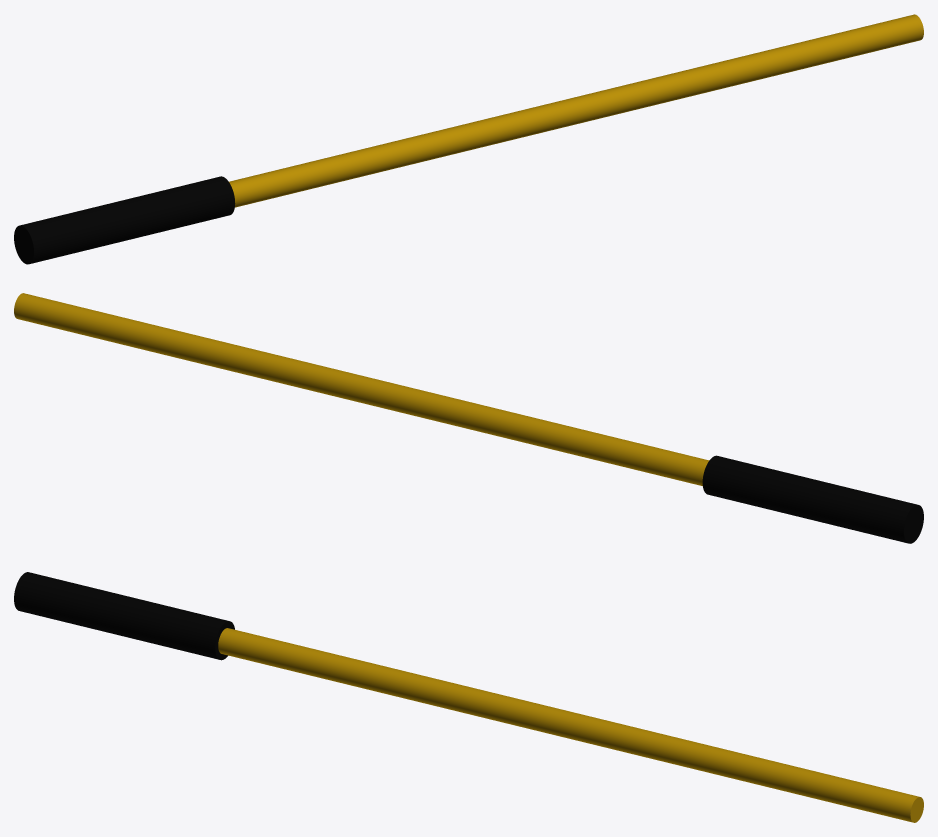
Rendered from arrow.fbx.
3 renders of one model, top to bottom at view 1: azimuth 30°, elevation 25°; view 2: azimuth 150°, elevation 25°; view 3: azimuth 330°, elevation 25°, orthographic.
Visible parts, largest first — view 1: root (×2); view 2: root (×2); view 3: root (×2).
Part boxes in pixels (x1,y1,x2,y2): root (×2): [14, 14, 923, 264]; root (×2): [14, 293, 923, 543]; root (×2): [14, 572, 923, 822].
Bounding box in the file's own units: 0.692 × 0.0268 × 0.027.
2 materials, 2 textured.
